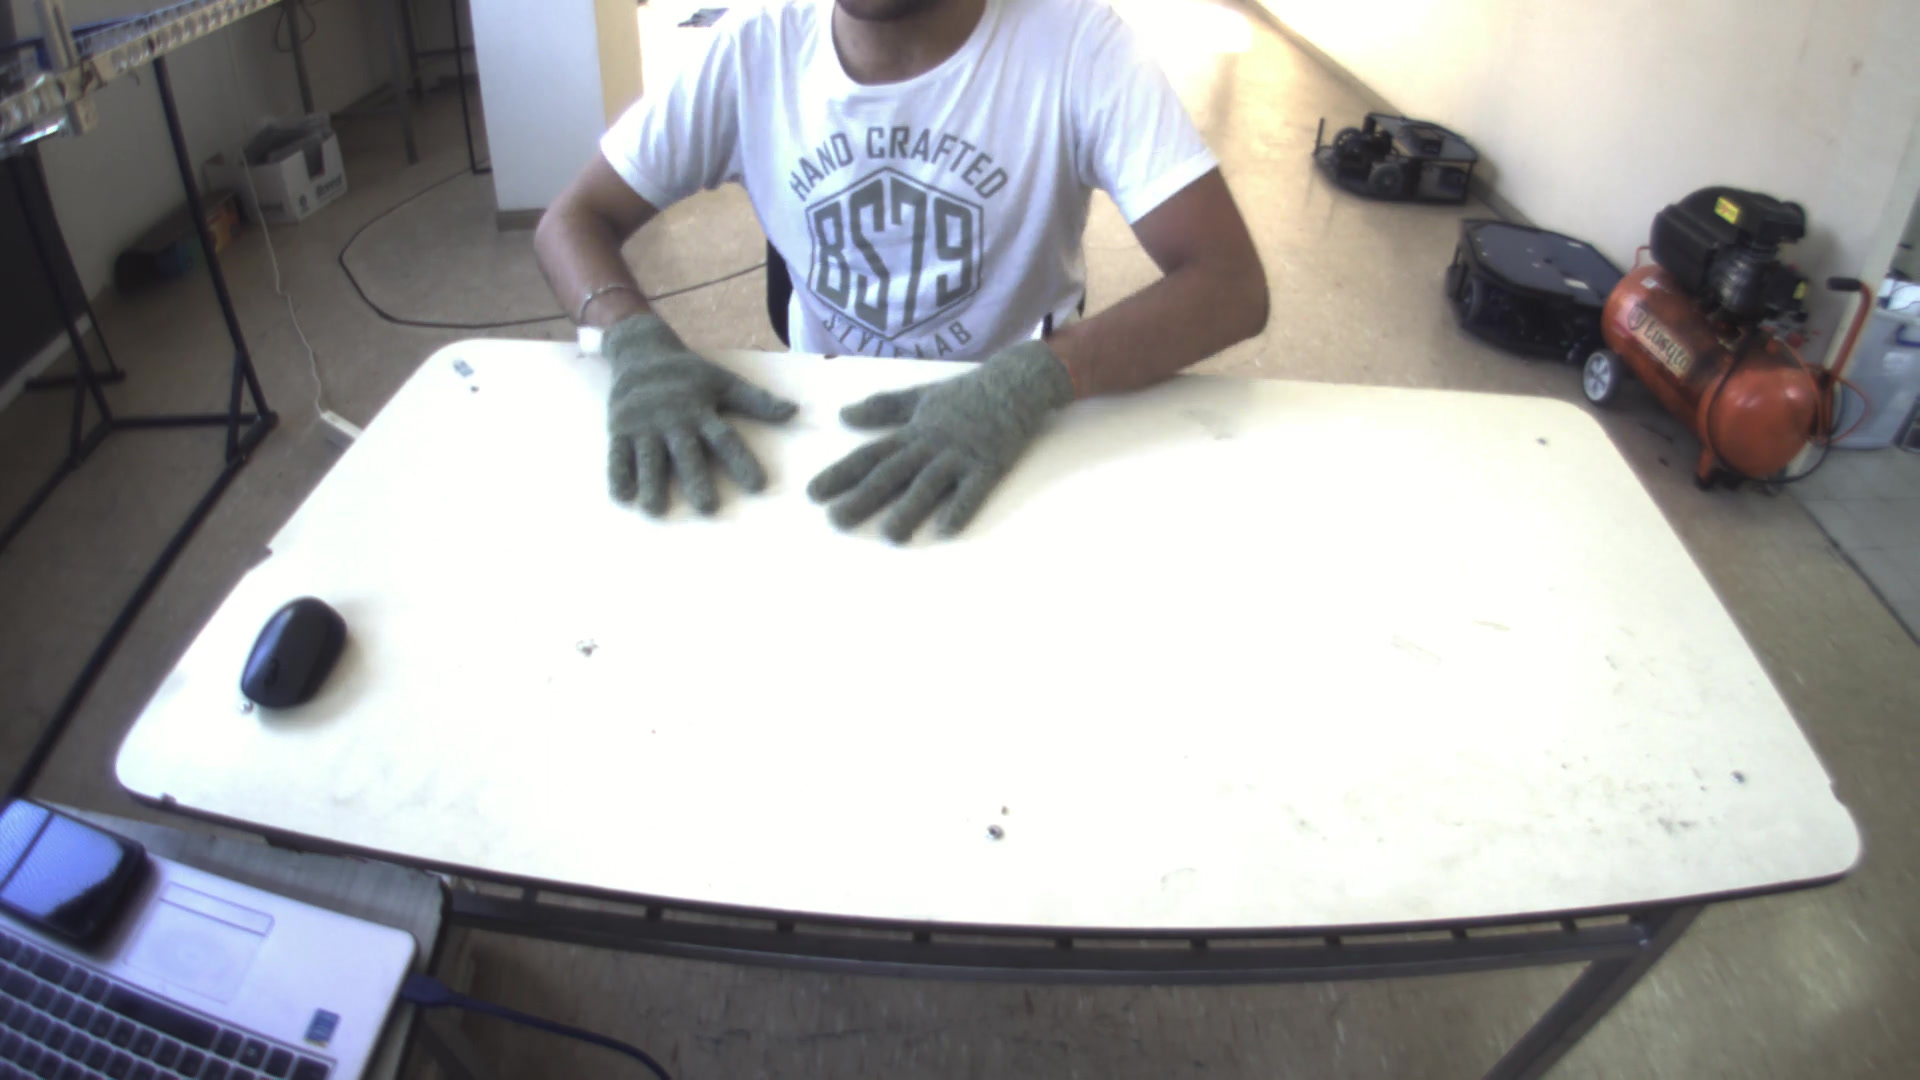hand: (796, 334, 1071, 555), (572, 299, 802, 526)
